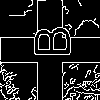B: (25, 25, 70, 58)
